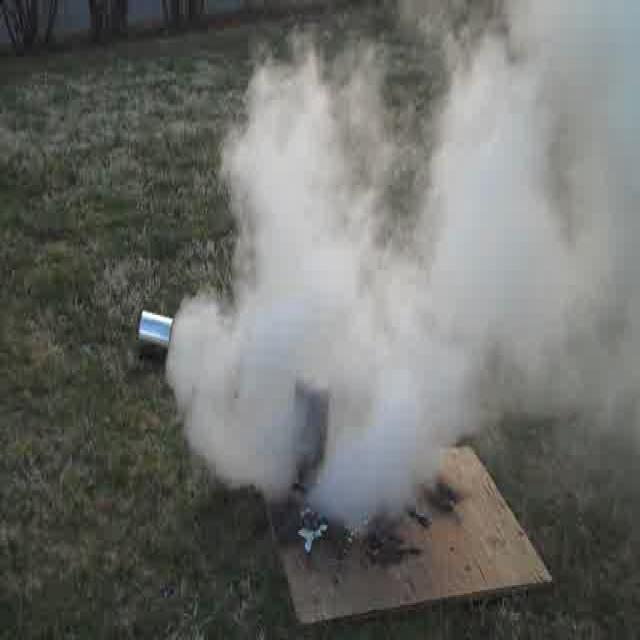Smoke: (168, 3, 636, 474)
